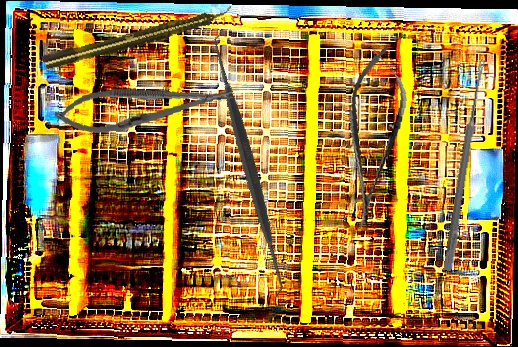Handpiece: (41, 3, 235, 72)
Micro Scissor: (331, 42, 415, 234)
Needle Holder: (52, 74, 236, 140)
Spatula Surgical: (112, 31, 385, 300)
Surgical Spoon: (443, 58, 487, 272)
